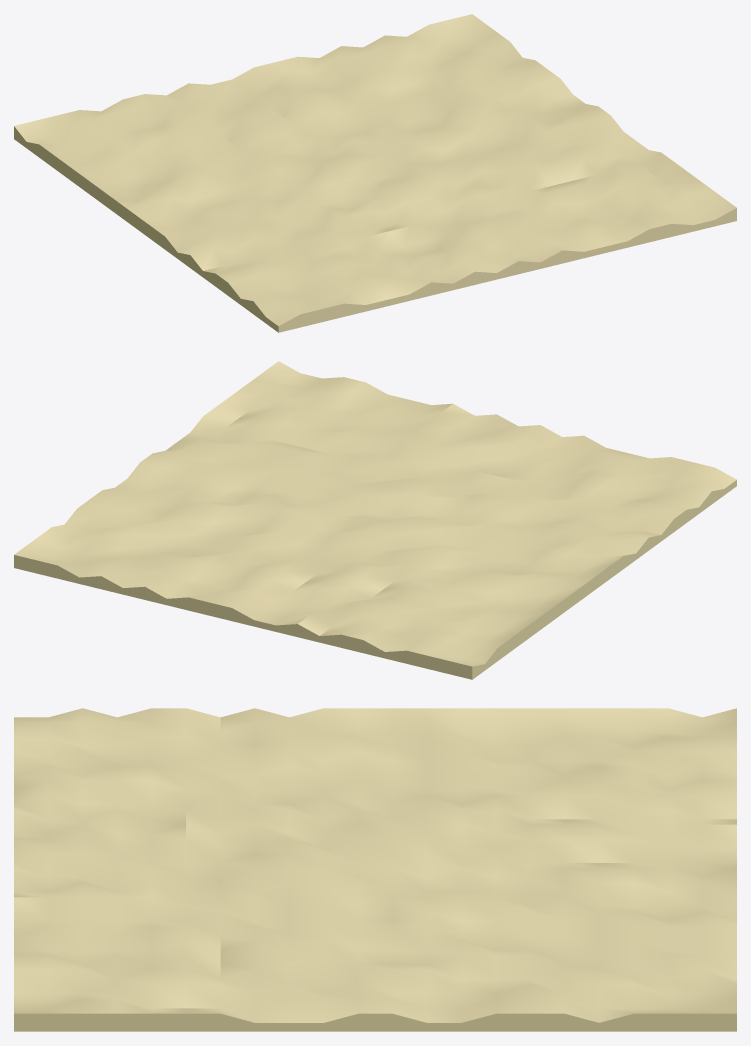
File: ground1.glb
3 renders of one model, top to bottom at view 1: azimuth 30°, elevation 25°; view 2: azimuth 150°, elevation 25°; view 3: azimuth 270°, elevation 25°, orthographic. The views are drawn at different scales.
Parts seen in each view (by area): view 1: Plane; view 2: Plane; view 3: Plane.
Part boxes in pixels (left/top/right/bottom): Plane: left=14, top=14, right=736, bottom=332; Plane: left=14, top=361, right=736, bottom=679; Plane: left=14, top=708, right=736, bottom=1031.
Bounding box in the file's own units: 5 × 0.1378 × 5.
